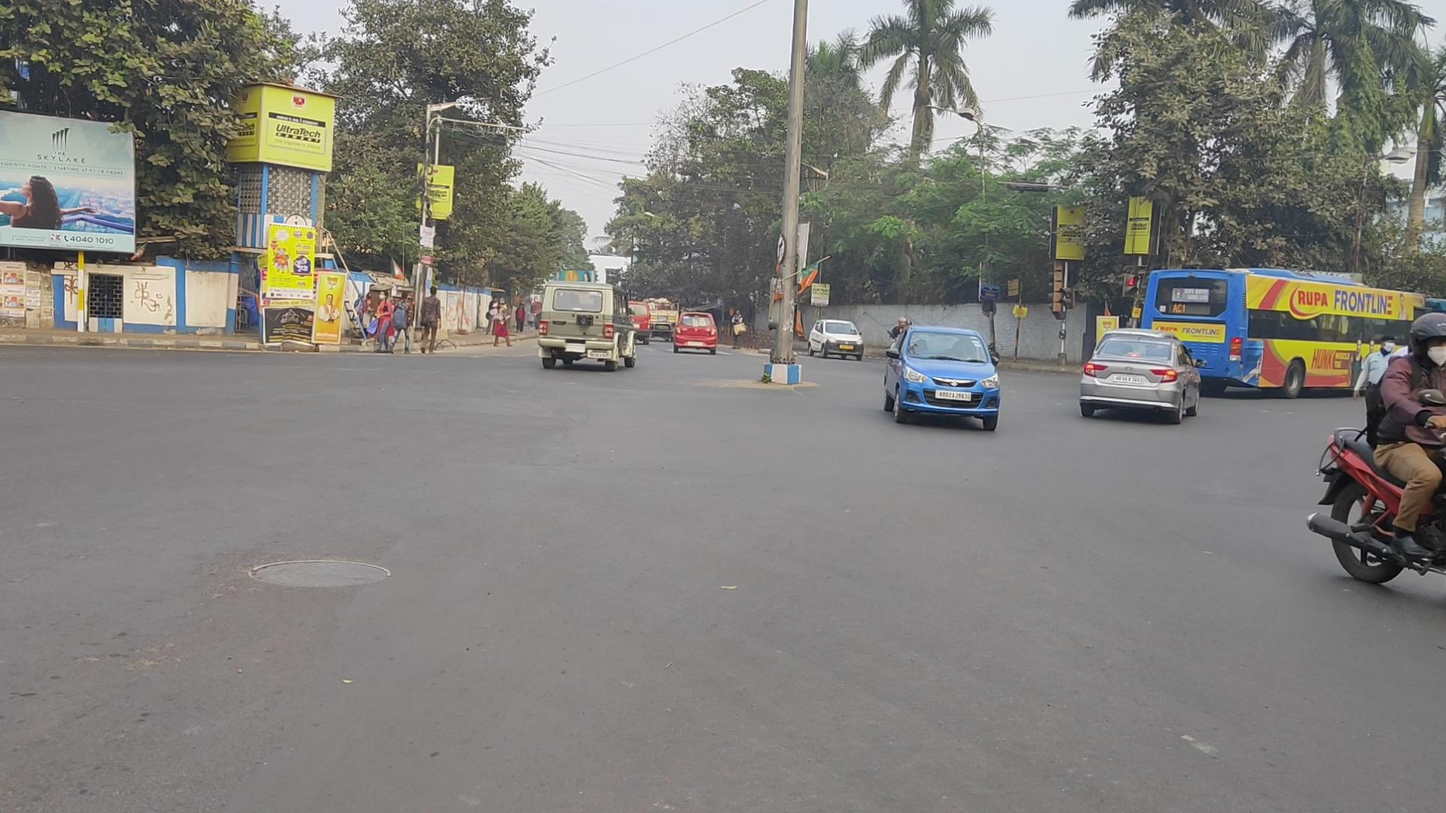Bus: (1140, 266, 1446, 399)
car: (882, 324, 1002, 432), (1079, 333, 1207, 425), (538, 281, 639, 371), (807, 318, 864, 361), (671, 311, 718, 356), (628, 300, 652, 349)
